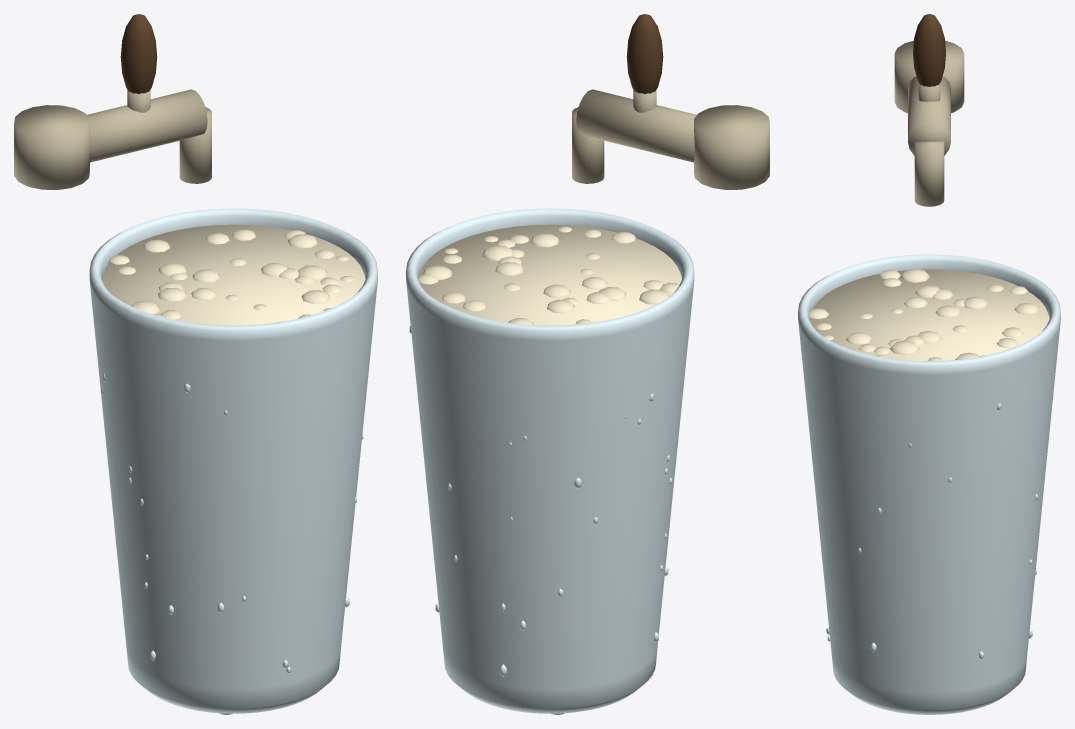
File: beer.glb
3 renders of one model, left to right at view 1: azimuth 30°, elevation 25°; view 2: azimuth 150°, elevation 25°; view 3: azimuth 270°, elevation 25°, orthographic. The views are drawn at different scales.
Parts seen in each view (by area): view 1: Glass, Head, Tap, FoamCrown, TapHandle; view 2: Glass, Head, Tap, FoamCrown, TapHandle, Condensation; view 3: Glass, Head, Tap, FoamCrown, TapHandle.
Part boxes in pixels (x1,y1,x2,y2): Glass: [89, 208, 377, 713]; Head: [102, 224, 365, 325]; Tap: [14, 89, 211, 189]; FoamCrown: [108, 229, 353, 322]; TapHandle: [120, 14, 157, 93]; Glass: [406, 208, 694, 713]; Head: [419, 224, 681, 325]; Tap: [572, 89, 769, 189]; FoamCrown: [418, 226, 679, 324]; TapHandle: [626, 14, 663, 93]; Condensation: [409, 326, 672, 676]; Glass: [798, 254, 1060, 714]; Head: [809, 269, 1049, 360]; Tap: [894, 40, 964, 206]; FoamCrown: [808, 268, 1039, 361]; TapHandle: [913, 14, 945, 86].
Size of the model in its own units: 2.15 by 4.3 by 1.58.
